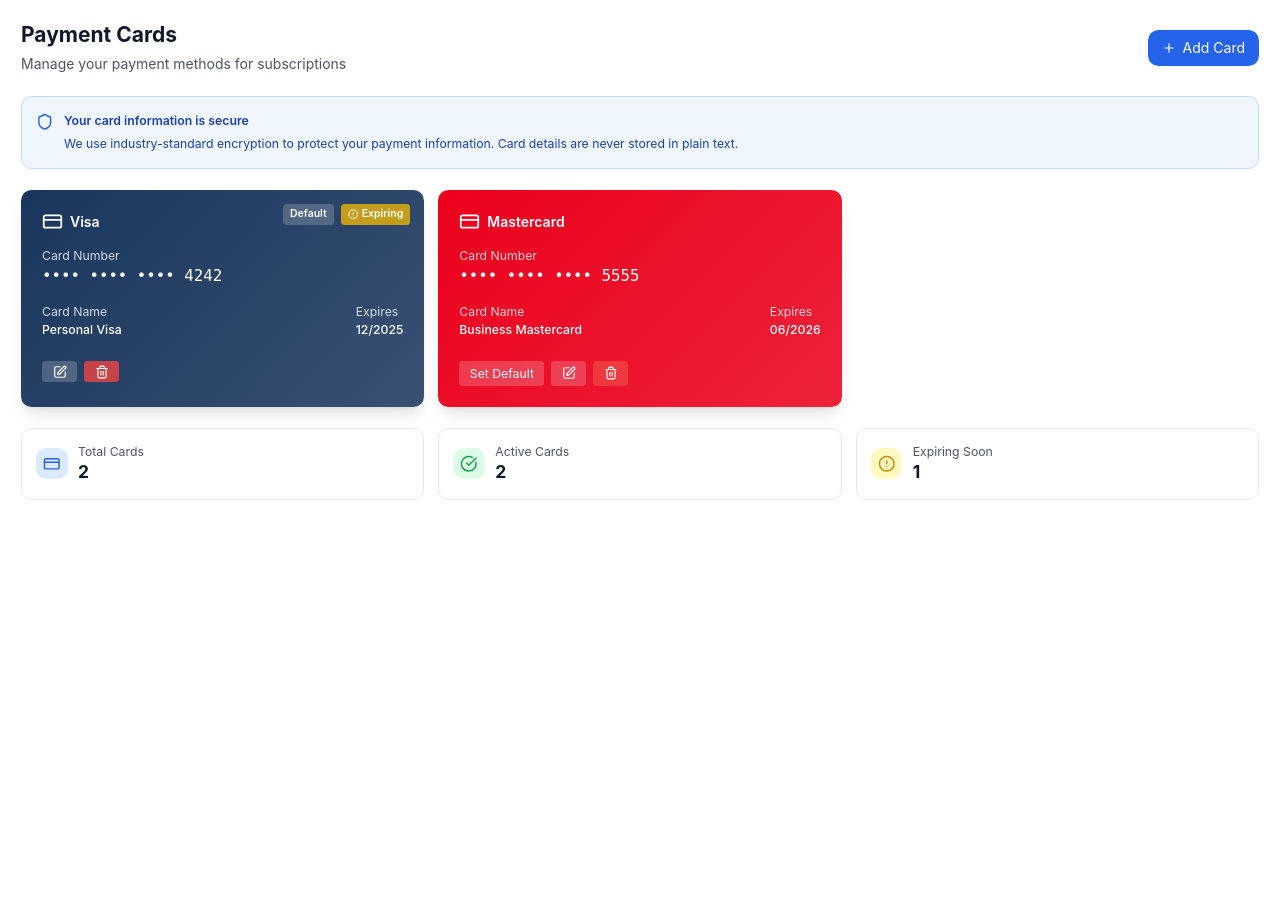
Test: PaymentCardsView › Card Validation › should validate card number using Luhn algorithm
Open add card modal
Click the button "Add Card": (1203, 48) [1148,30,1259,66]
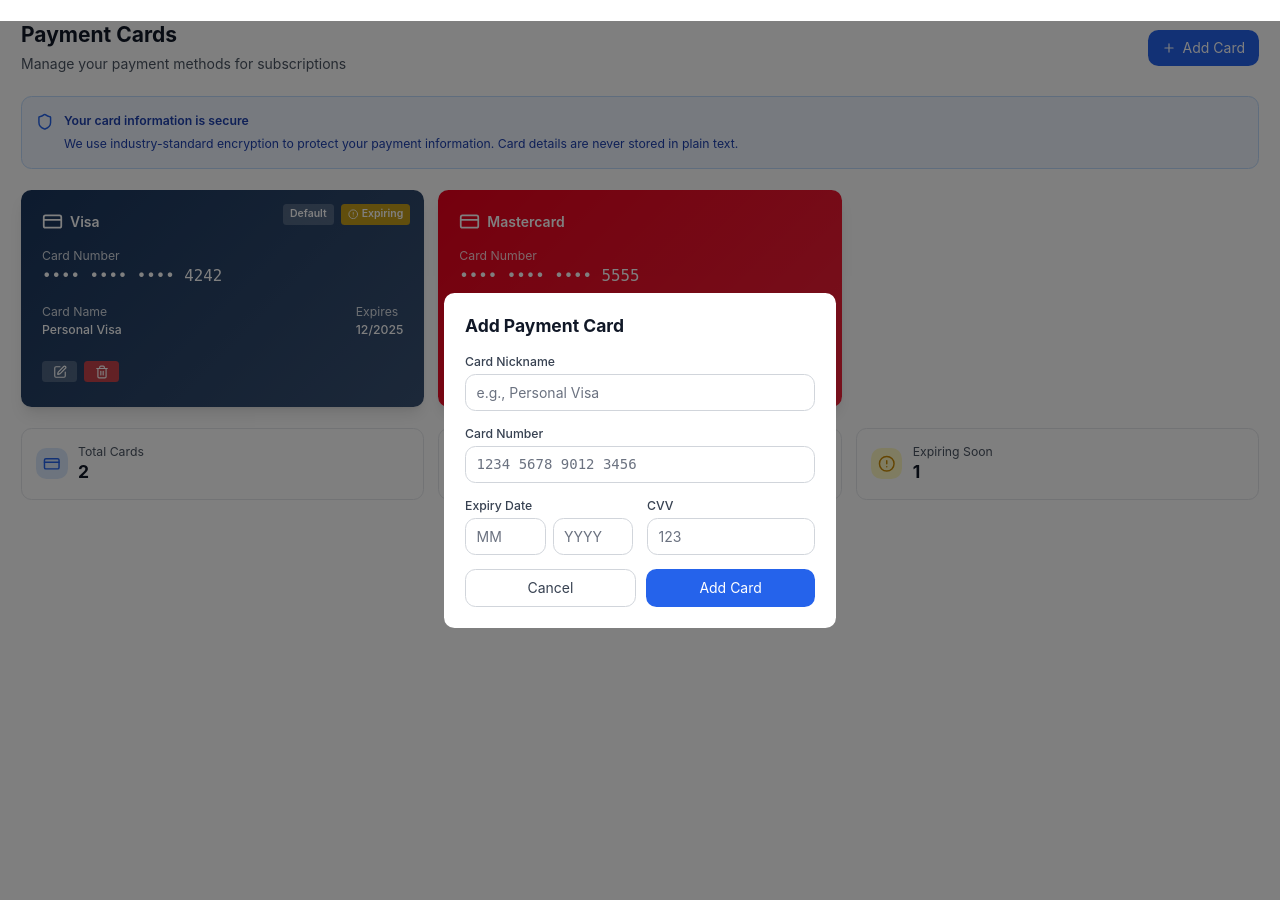
Try invalid card number
In the field with placeholder "1234 5678 9012 3456": (640, 464) [465,446,815,482], type "1234567890123456"
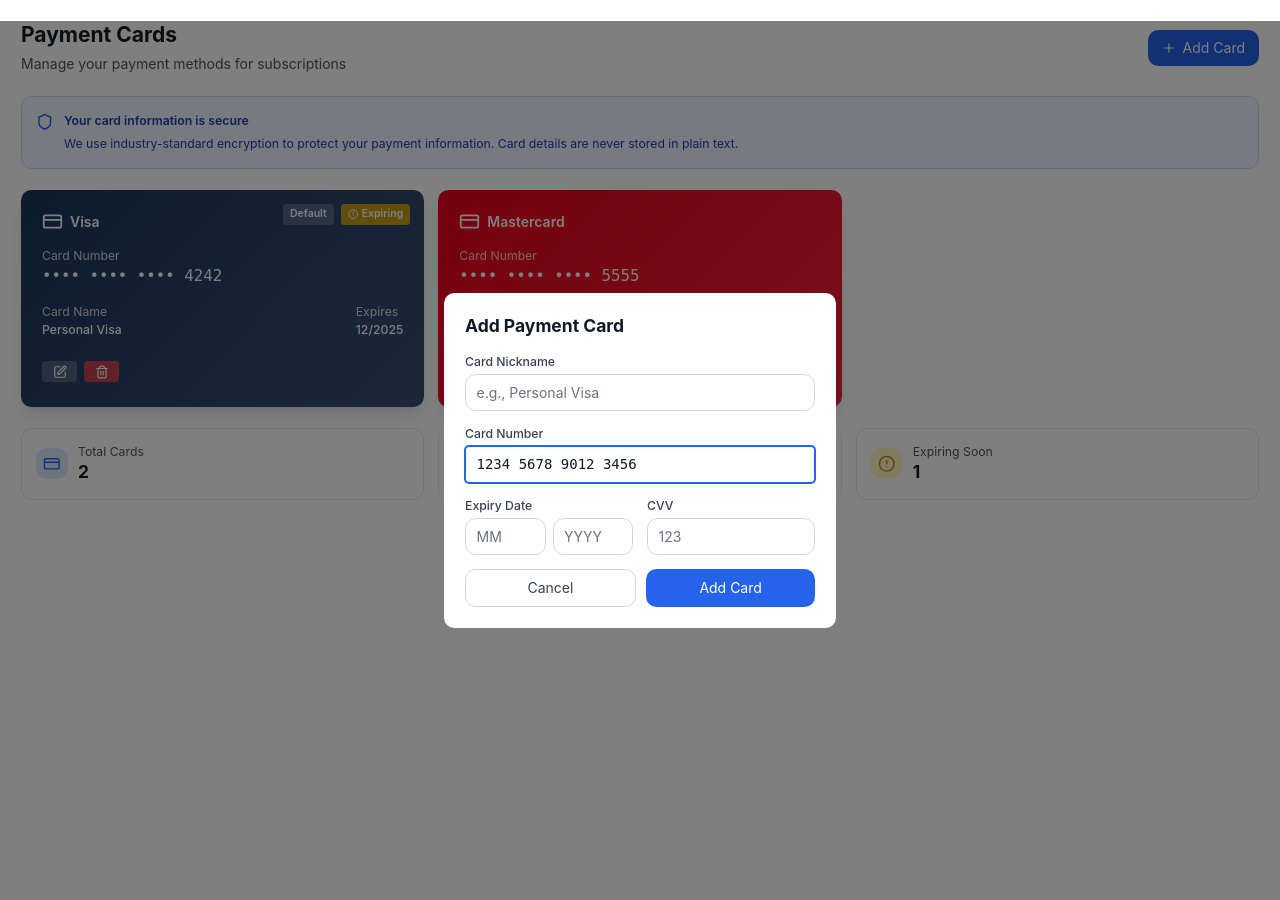
Submit the form, box [465,352,815,607]
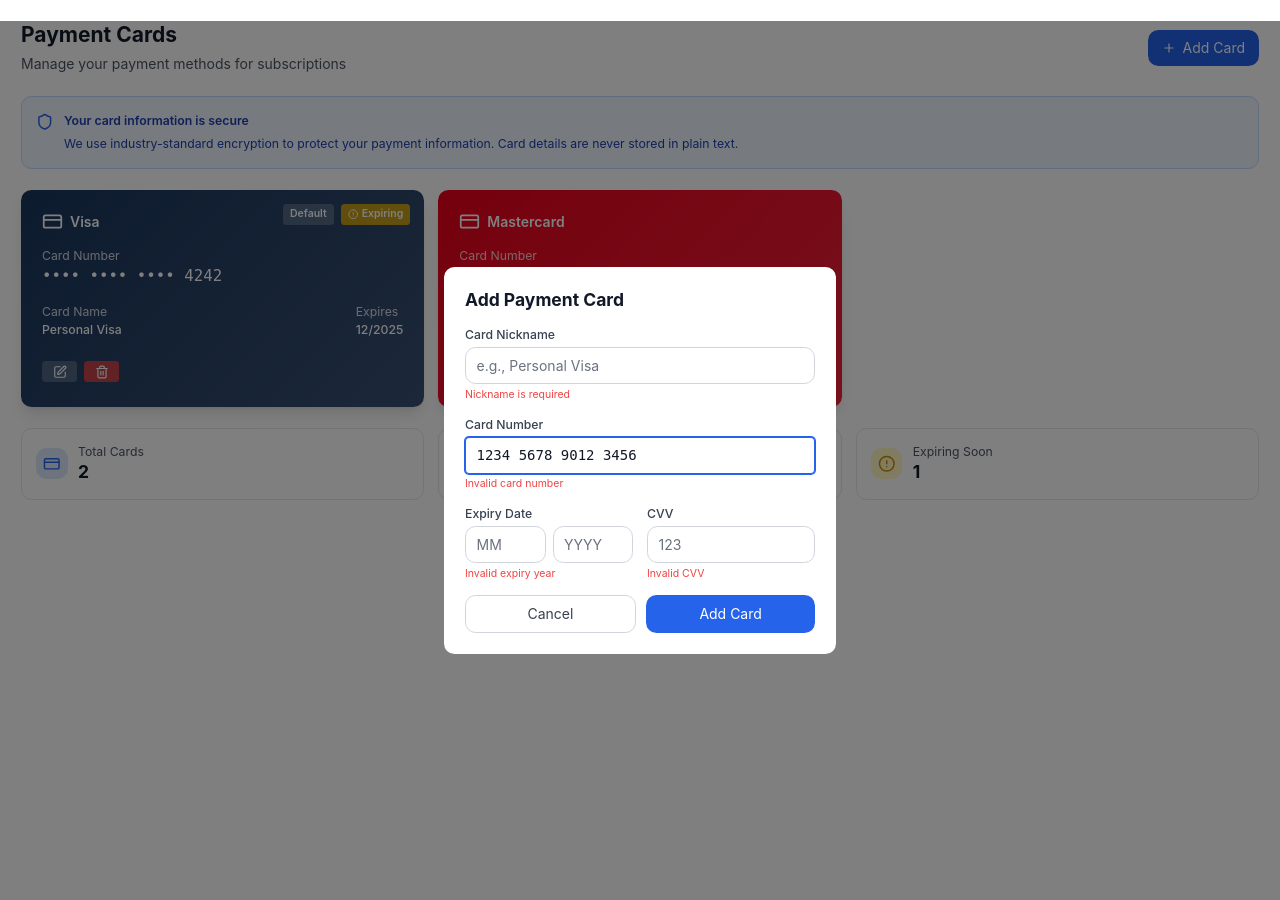
Check: the text "Invalid card number" is shown, box [465,477,563,490]
